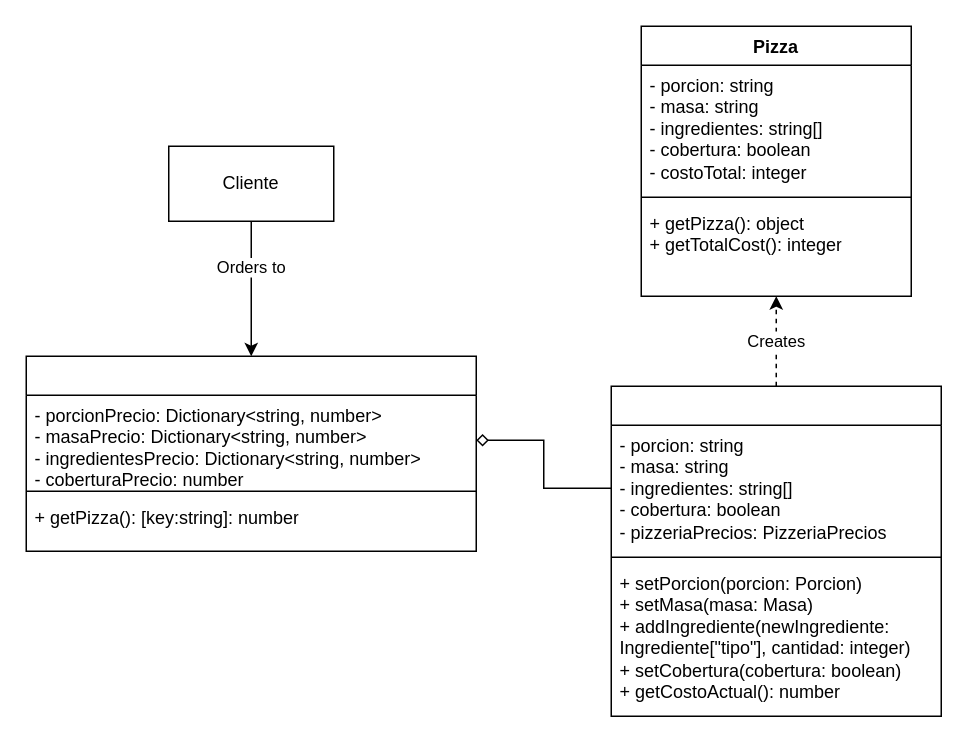
Some shapes in this 968 by 747 pixel diagram are drawn without their labels. Each missing label, with the box of its shape:
PizzaBuilder: (610, 385, 941, 716)
Restaurante: (25, 355, 476, 551)
